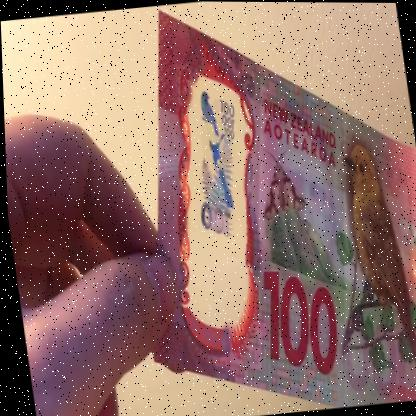100B: (175, 81, 254, 246)
